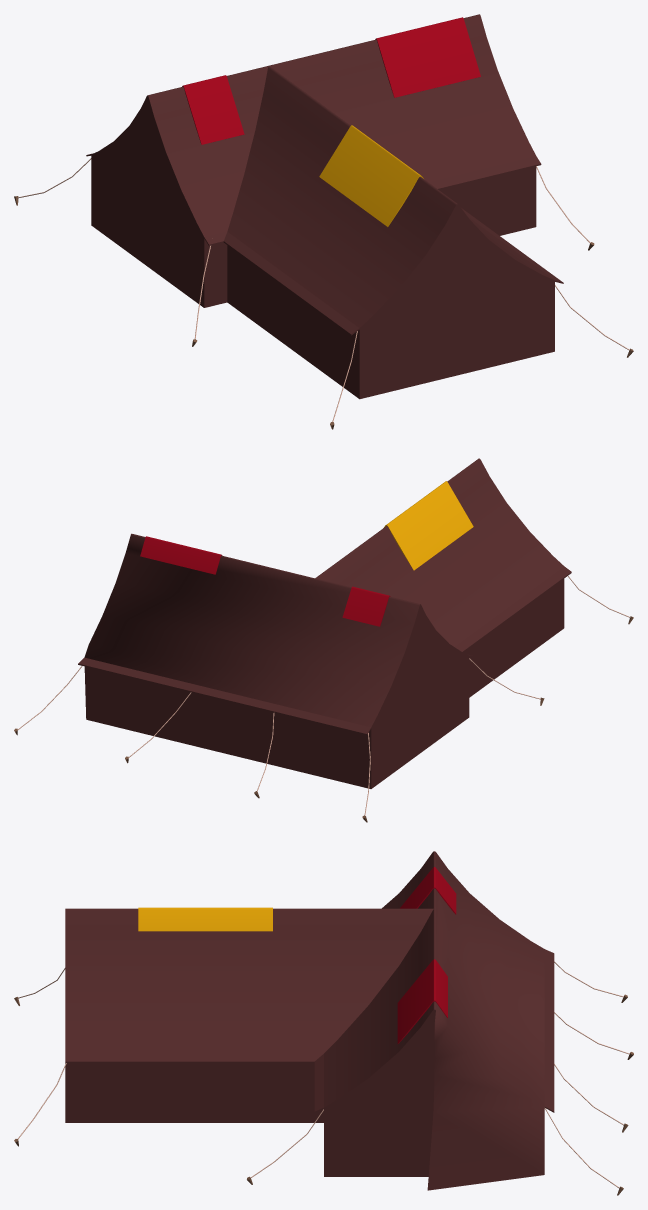
Rendered from namiot_potwora2.fbx.
The picture shows the model from 3 angles, top to bottom: view 1: azimuth 30°, elevation 25°; view 2: azimuth 150°, elevation 25°; view 3: azimuth 270°, elevation 25°; orthographic projection. The views are drawn at different scales.
Visible parts, largest first — view 1: namiot.002; view 2: namiot.002; view 3: namiot.002.
Part boxes in pixels (<box>): namiot.002: <box>14,14,633,429</box>; namiot.002: <box>14,458,633,822</box>; namiot.002: <box>14,851,633,1195</box>.
Bounding box in the file's own units: 855 × 339 × 1121.
